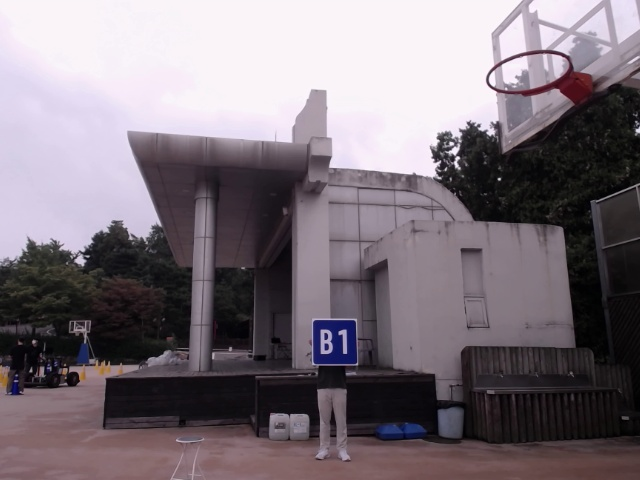delivery_b1: (312, 318, 358, 365)
